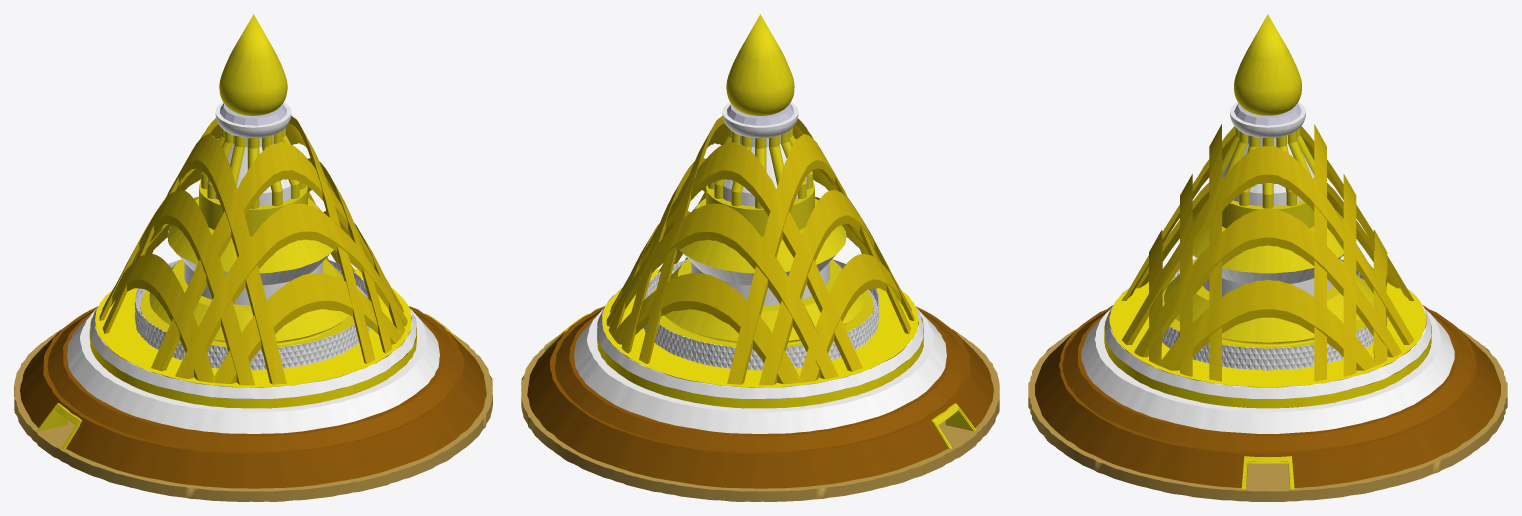
The model's file is JD_OKX.glb.
The picture shows the model from 3 angles, left to right: view 1: azimuth 30°, elevation 25°; view 2: azimuth 150°, elevation 25°; view 3: azimuth 270°, elevation 25°; orthographic projection.
Parts seen in each view (by area): view 1: Build, group1, WallEx, ground03, lotus, group2, Lotus, Group26, DoorA; view 2: Build, group1, WallEx, ground03, lotus, group2, Lotus, Group26, DoorA; view 3: Build, group1, WallEx, ground03, lotus, group2, Lotus, Group26, DoorB.
Boxes of the visible parts, left/top/right/bottom form: Build: left=47, top=135, right=459, bottom=452; group1: left=99, top=116, right=407, bottom=385; WallEx: left=20, top=306, right=486, bottom=488; ground03: left=14, top=329, right=492, bottom=501; lotus: left=219, top=14, right=287, bottom=115; group2: left=201, top=127, right=305, bottom=208; Lotus: left=215, top=102, right=291, bottom=138; Group26: left=137, top=285, right=367, bottom=399; DoorA: left=37, top=403, right=82, bottom=448; Build: left=555, top=135, right=965, bottom=452; group1: left=606, top=116, right=914, bottom=385; WallEx: left=527, top=306, right=993, bottom=488; ground03: left=521, top=329, right=999, bottom=501; lotus: left=726, top=14, right=794, bottom=115; group2: left=708, top=127, right=812, bottom=208; Lotus: left=722, top=102, right=798, bottom=138; Group26: left=646, top=285, right=876, bottom=399; DoorA: left=931, top=403, right=976, bottom=449; Build: left=1062, top=135, right=1473, bottom=451; group1: left=1121, top=124, right=1414, bottom=381; WallEx: left=1035, top=305, right=1500, bottom=487; ground03: left=1028, top=329, right=1507, bottom=501; lotus: left=1234, top=14, right=1301, bottom=115; group2: left=1222, top=127, right=1314, bottom=208; Lotus: left=1230, top=102, right=1305, bottom=137; Group26: left=1159, top=278, right=1376, bottom=396; DoorB: left=1241, top=456, right=1294, bottom=489.
Size of the model in its own units: 0.908 by 0.8085 by 0.908.
